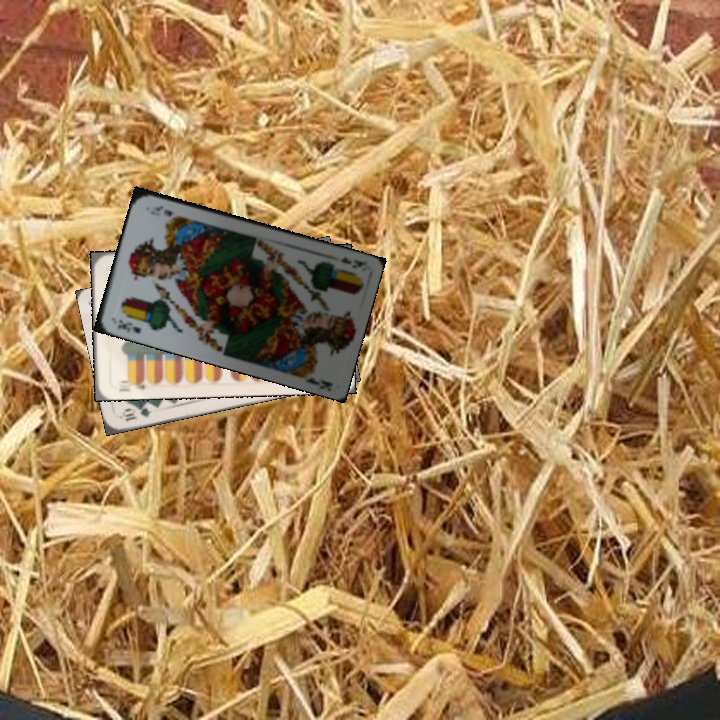E10: (116, 375, 148, 392)
EK: (336, 252, 368, 271), (113, 316, 143, 336)
G10: (117, 403, 155, 424)
